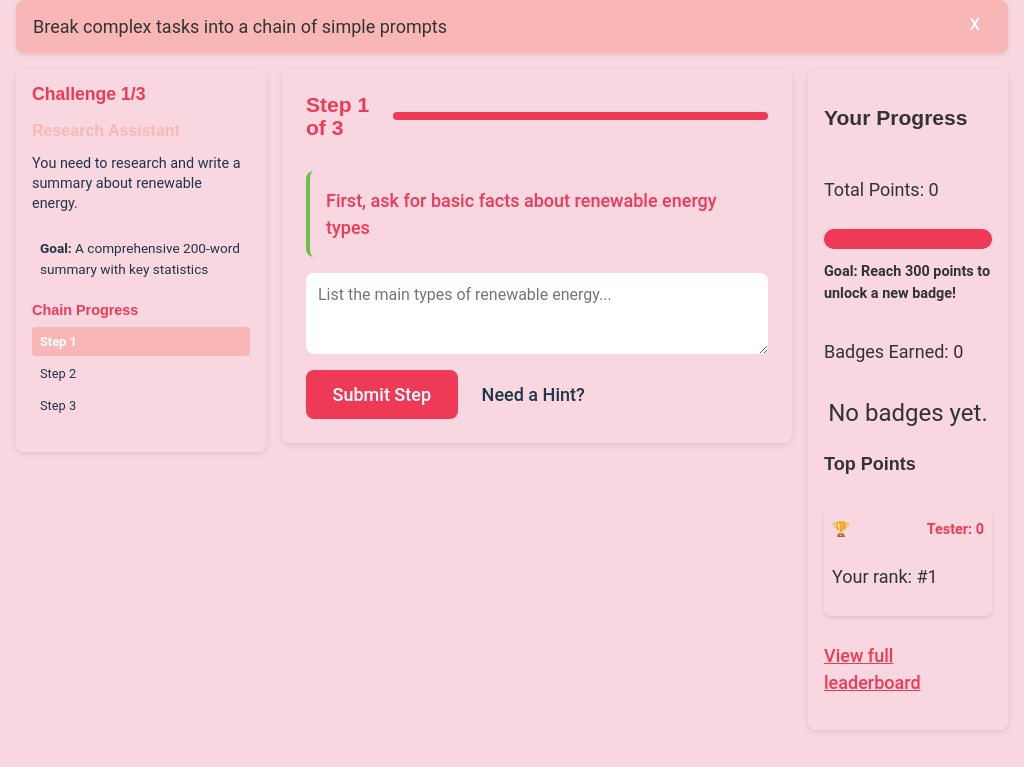
Test case: PromptChainGame › shows chain history when steps are completed
Note: Complete first step
Type "List the main types of renewable energy sources" into the text box at [537, 314], box [306, 273, 768, 354]
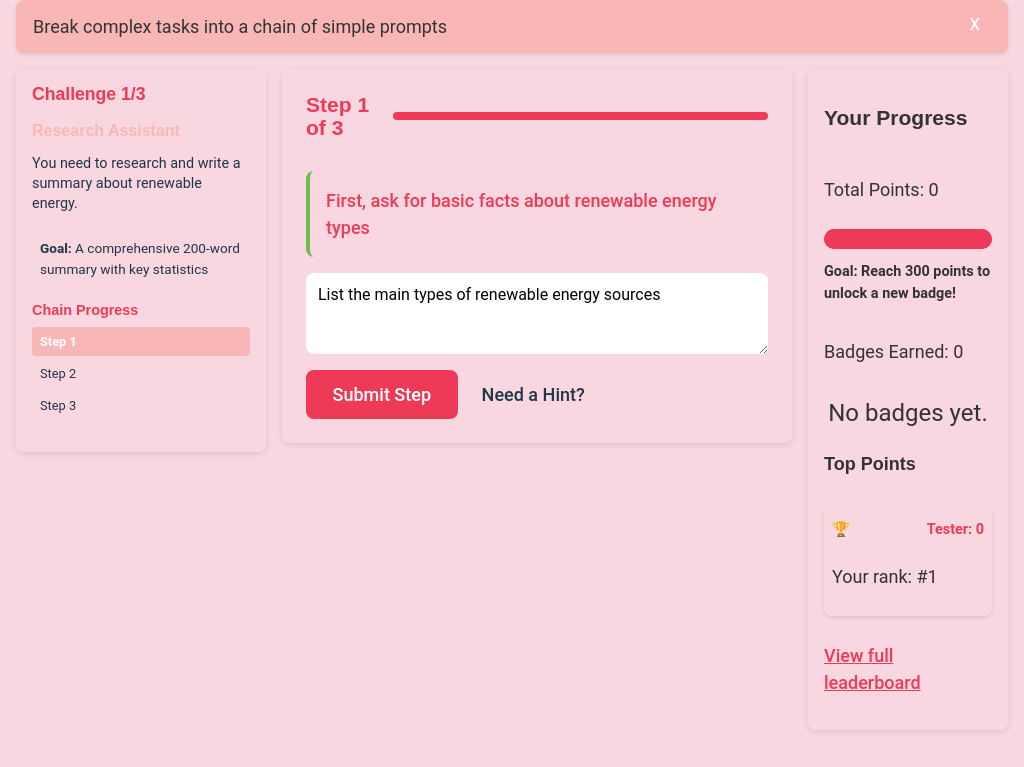
Click the button "Submit Step" at [382, 395], box [306, 370, 458, 419]
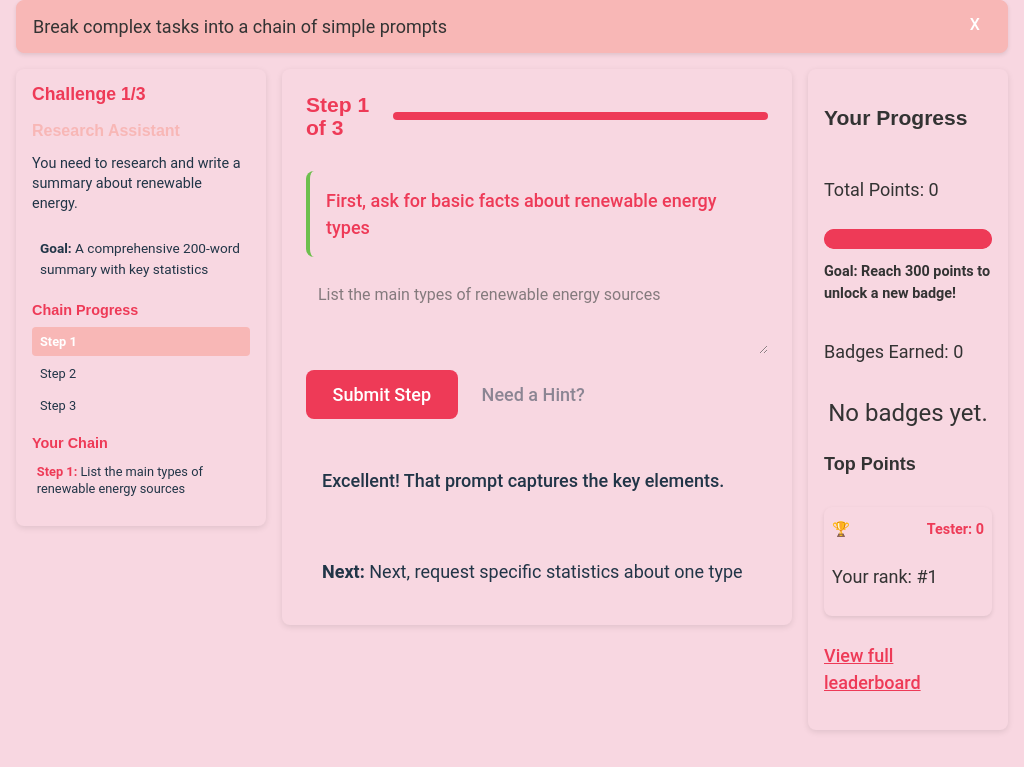
Check: the heading "Your Chain" is shown, box [32, 436, 108, 451]
Check: the text "Step 1:" is shown, box [37, 464, 77, 479]
